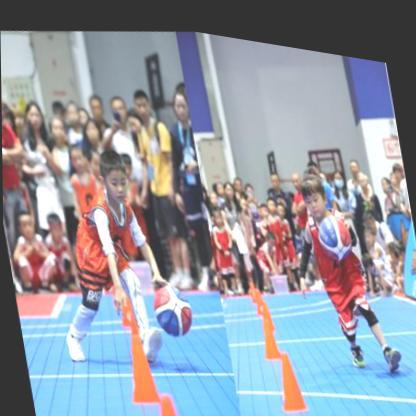basketball: (149, 273, 195, 336), (313, 200, 355, 255)
